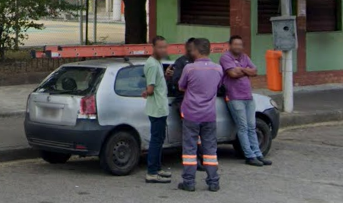car: (24, 58, 282, 176)
